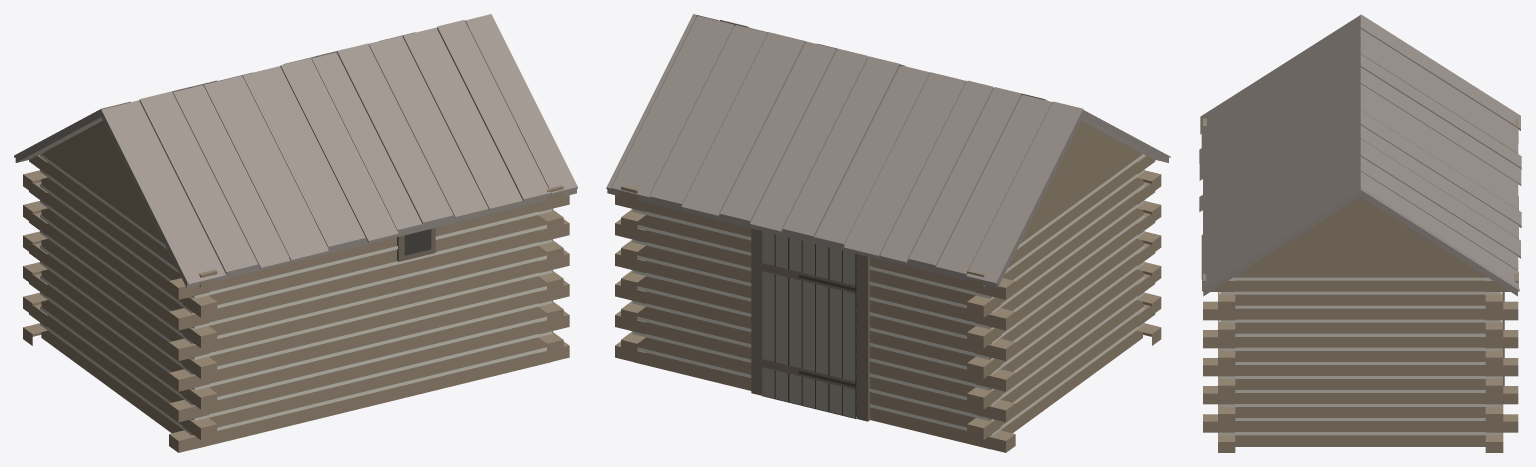
The model's file is kinzie_horse_mill_1812__mill_1808.glb.
The picture shows the model from 3 angles, left to right: view 1: azimuth 30°, elevation 25°; view 2: azimuth 150°, elevation 25°; view 3: azimuth 270°, elevation 25°; orthographic projection. The views are drawn at different scales.
Visible parts, largest first — view 1: kinzie_horse_mill_1812__mill_1808; view 2: kinzie_horse_mill_1812__mill_1808; view 3: kinzie_horse_mill_1812__mill_1808.
Part boxes in pixels (x1,y1,x2,y2): kinzie_horse_mill_1812__mill_1808: [14, 14, 577, 452]; kinzie_horse_mill_1812__mill_1808: [606, 14, 1170, 452]; kinzie_horse_mill_1812__mill_1808: [1199, 14, 1521, 452].
Bounding box in the file's own units: 5.6 × 3.96 × 4.35.
